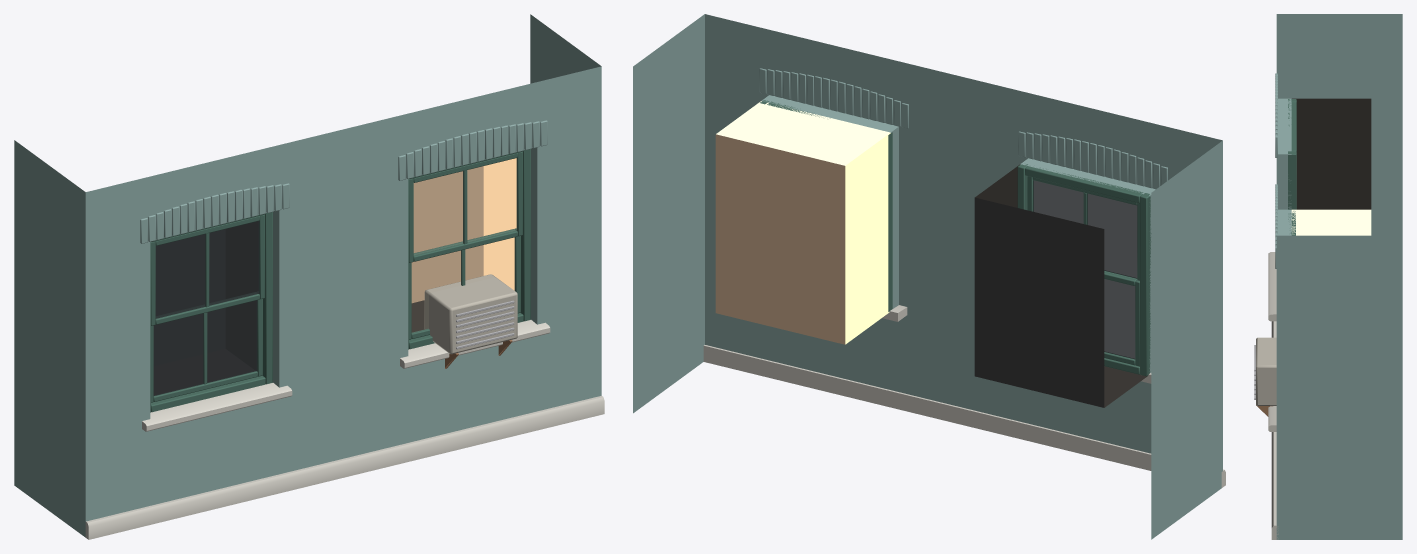
The model's file is upper_5b.glb.
The picture shows the model from 3 angles, left to right: view 1: azimuth 30°, elevation 25°; view 2: azimuth 150°, elevation 25°; view 3: azimuth 270°, elevation 25°; orthographic projection. The views are drawn at different scales.
Parts seen in each view (by area): view 1: upper_5b; view 2: upper_5b; view 3: upper_5b.
Boxes of the visible parts, <box> form: upper_5b: <box>14,14,604,539</box>; upper_5b: <box>633,14,1225,539</box>; upper_5b: <box>1254,14,1402,539</box>.
Size of the model in its own units: 5 by 3.2 by 1.42.
